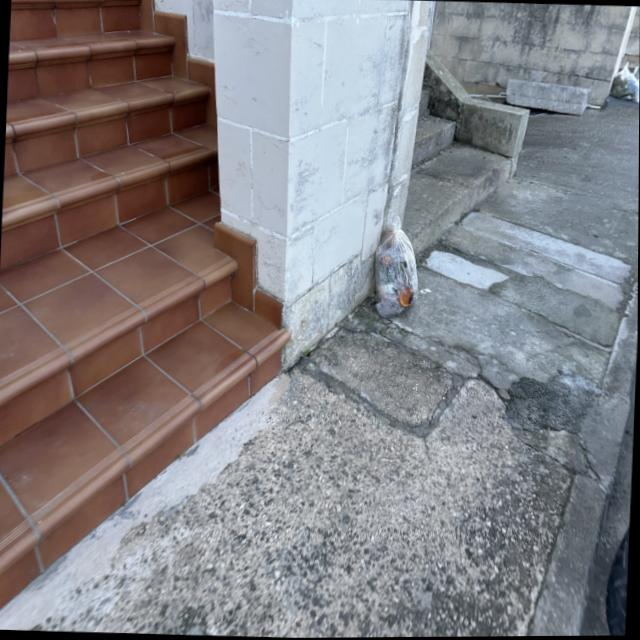Organic Waste -White Bags-: (375, 217, 418, 318)
